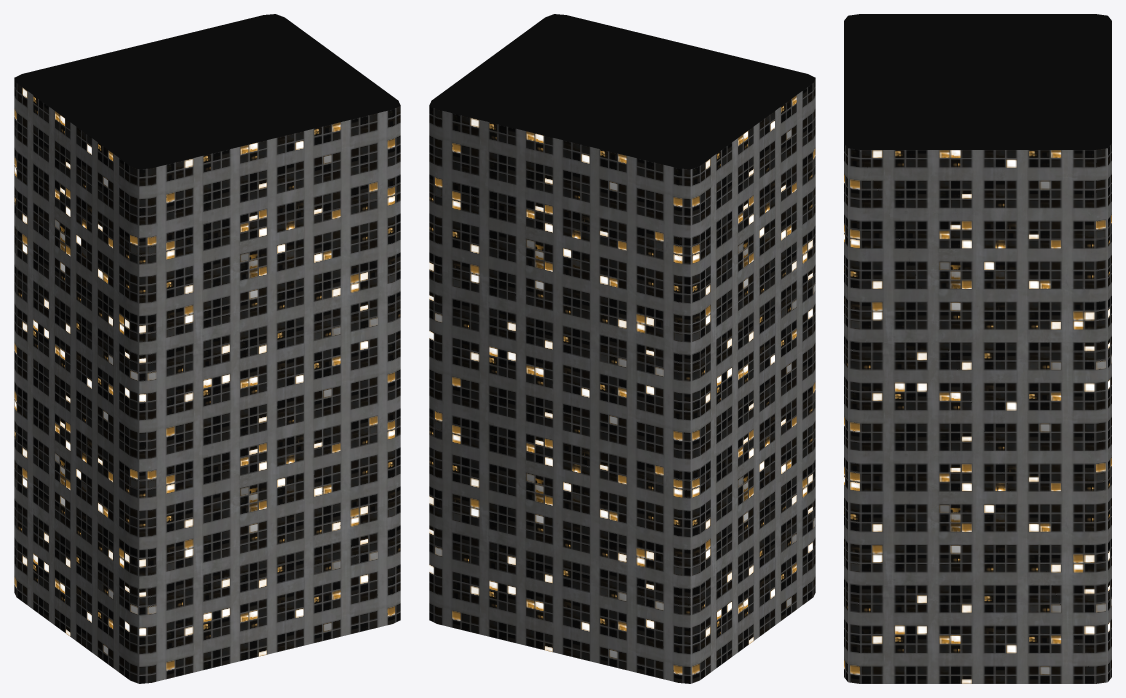
The model's file is Building_1.fbx.
3 renders of one model, left to right at view 1: azimuth 30°, elevation 25°; view 2: azimuth 150°, elevation 25°; view 3: azimuth 270°, elevation 25°, orthographic. The views are drawn at different scales.
Parts seen in each view (by area): view 1: Builing block; view 2: Builing block; view 3: Builing block.
Part boxes in pixels (left/top/right/bottom): Builing block: left=14, top=14, right=400, bottom=683; Builing block: left=429, top=14, right=815, bottom=683; Builing block: left=844, top=14, right=1111, bottom=683.
Bounding box in the file's own units: 69.18 × 127 × 57.65.
